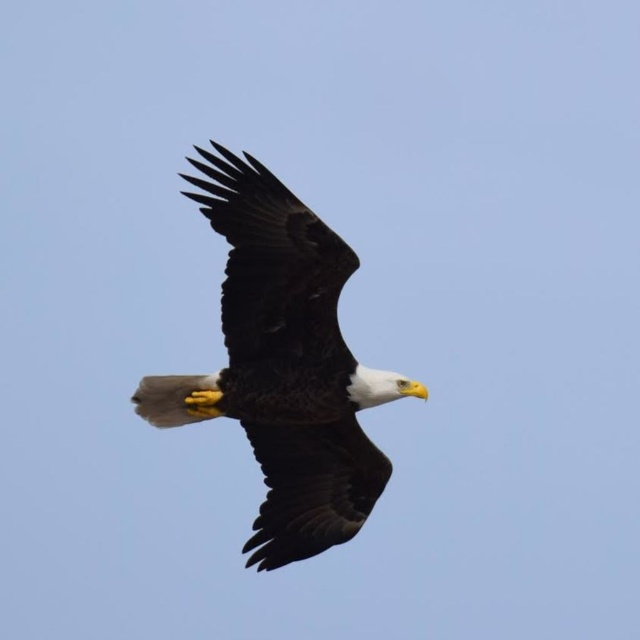Eagle: (128, 136, 433, 571)
